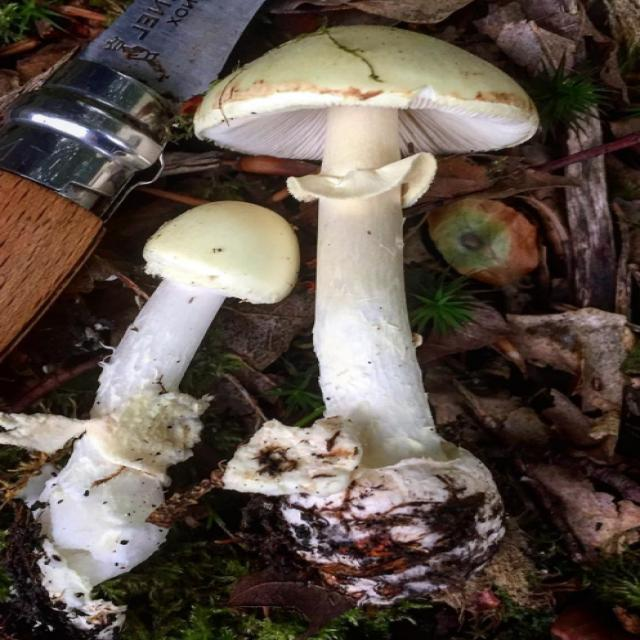death-cap: (192, 26, 540, 603), (46, 201, 300, 496)
